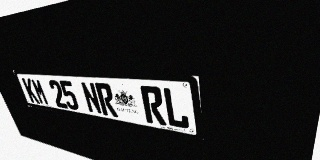2: (47, 79, 68, 109)
5: (59, 80, 80, 111)
K: (21, 78, 40, 104)
L: (162, 87, 190, 130)
M: (30, 78, 50, 105)
N: (80, 82, 103, 115)
R: (140, 86, 167, 126), (94, 83, 118, 117)
